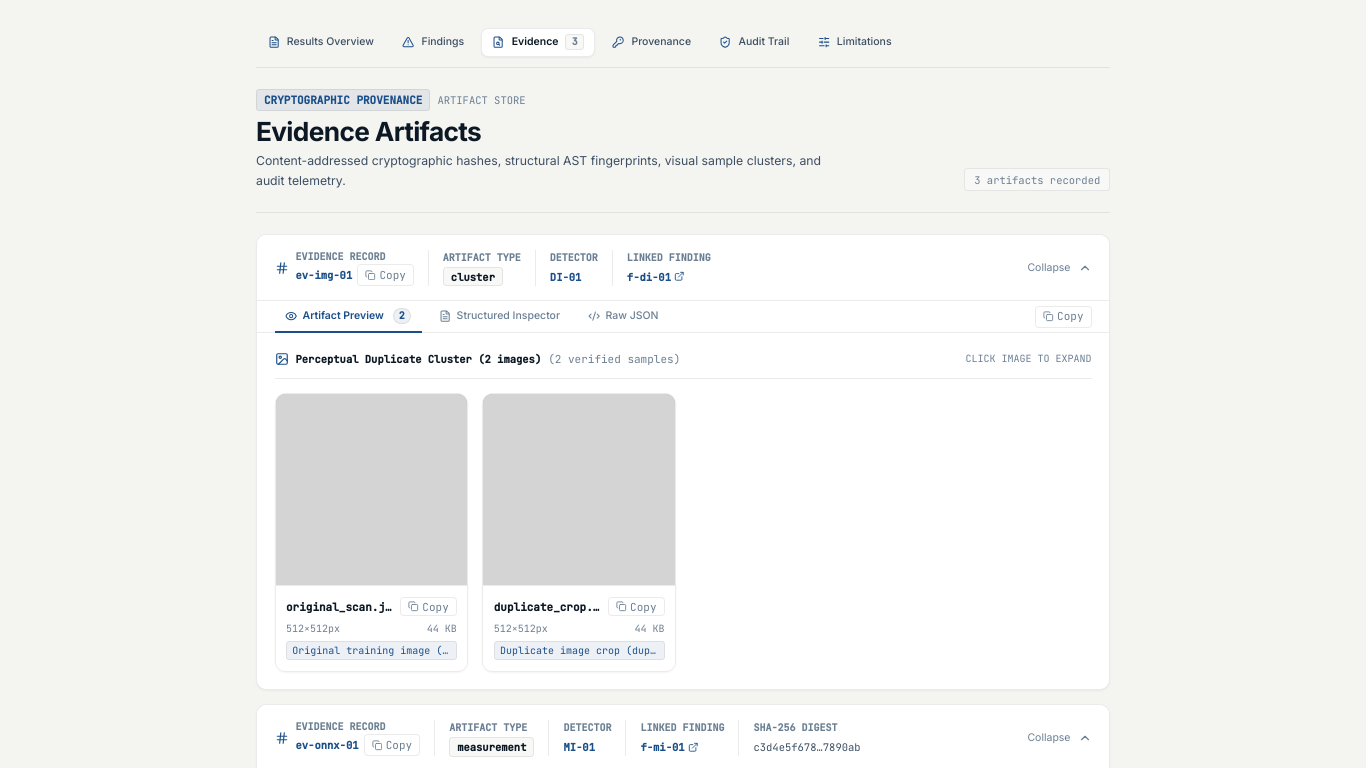
Test: Evidence Preview Component › opens and closes the image Lightbox modal on inspect click
This screenshot has width=1366, height=768.
Expected: the text "original_scan.jpg" is shown, [286,600,393,614]
Click the 1st button titled "Inspect full resolution image": (371, 490) [276,394,467,585]
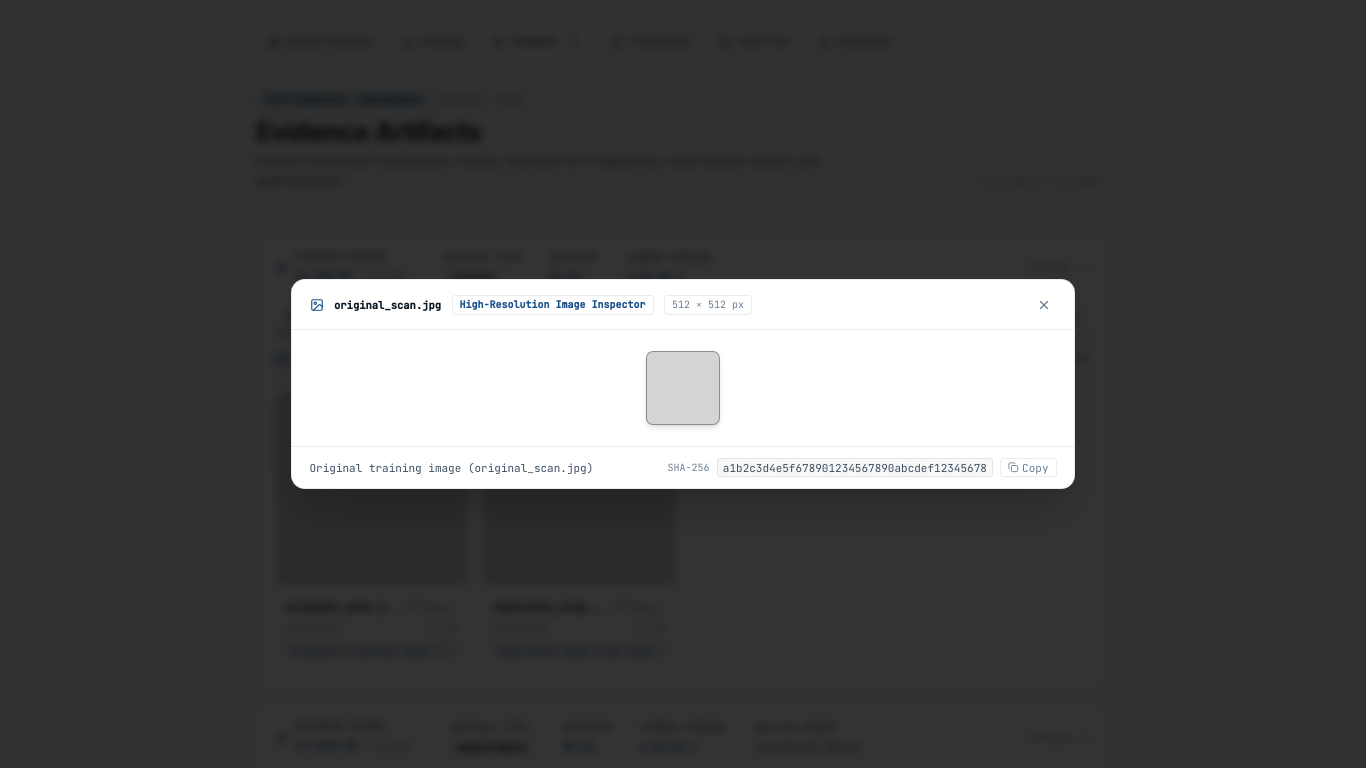
Now the text "High-Resolution Image Inspector" is shown, box [452,294,654,315]
Close button
Click the button titled "close": (1044, 305) [1032,292,1056,317]
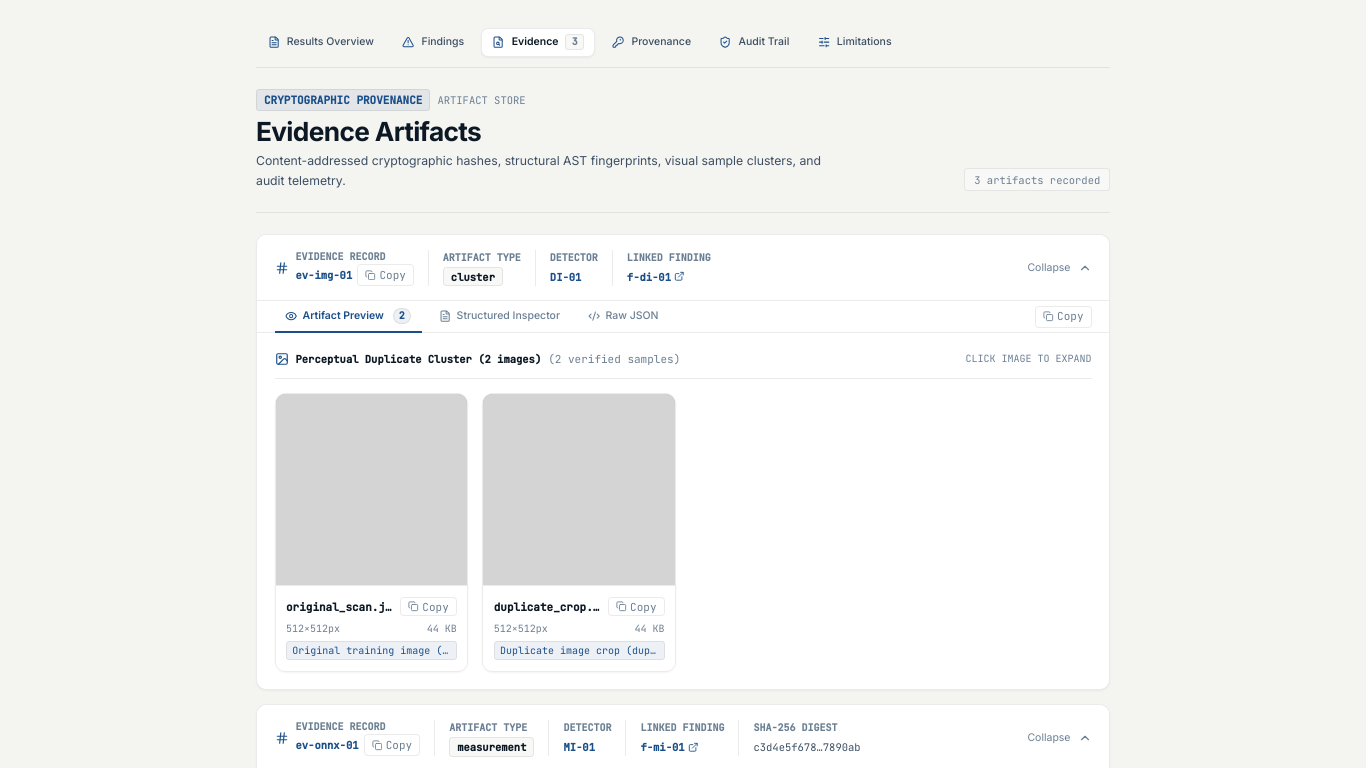
Now the text "High-Resolution Image Inspector" is gone
